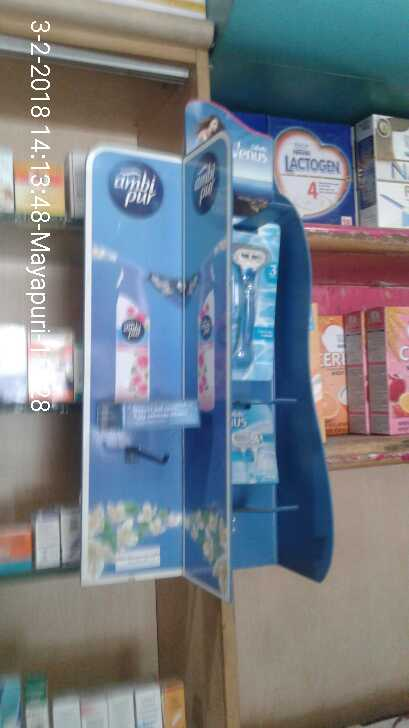venus: (225, 230, 285, 387), (232, 397, 286, 492)
